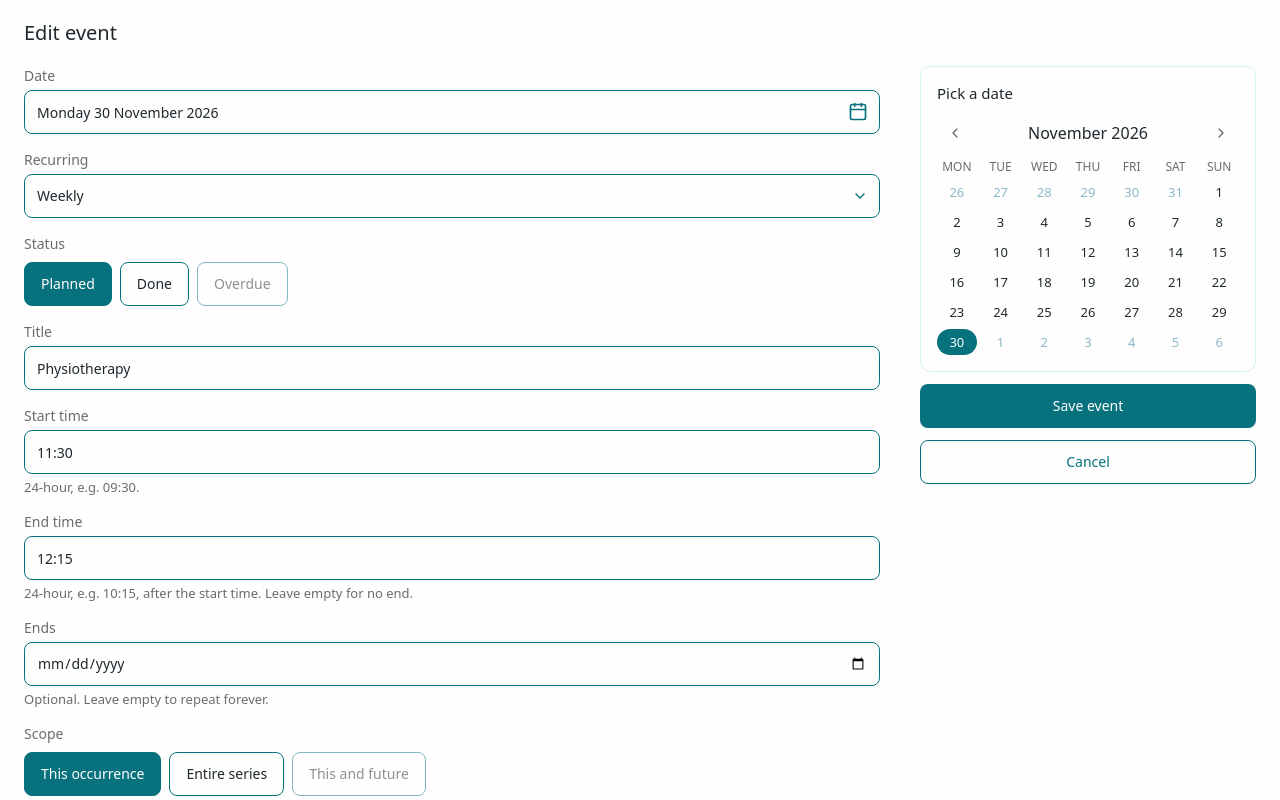
Test case: [CAR-07][AC-06] a shift that ends mid-form refuses the save and keeps the form › [CAR-07][AC-06] T-06 Edit event: the server refuses, so the shift-ended message shows and nothing navigates
The image size is (1280, 800).
What coordinates should you click on to do the following:
click the button "Save event"
I would click on:
 (1088, 406)
Its box is [920,384,1256,428].
(page scrolled)
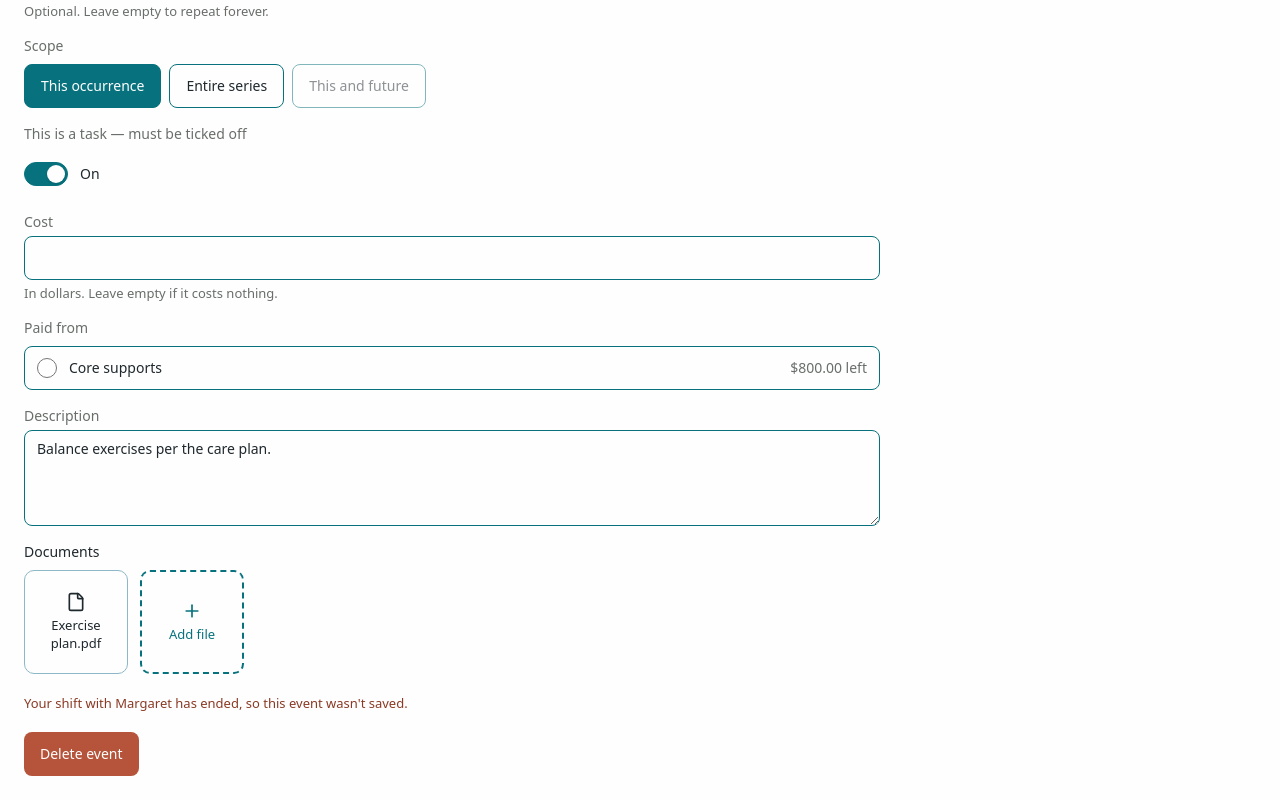
Expected: the text "Your shift with Margaret has ended, so this event wasn't saved." is shown, [24,694,408,712]
